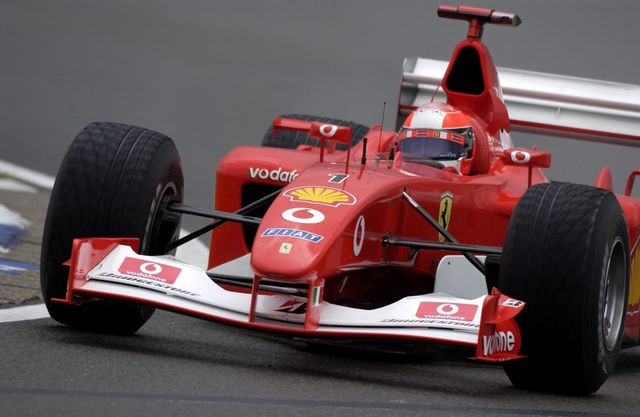f1_car: (32, 1, 640, 404)
